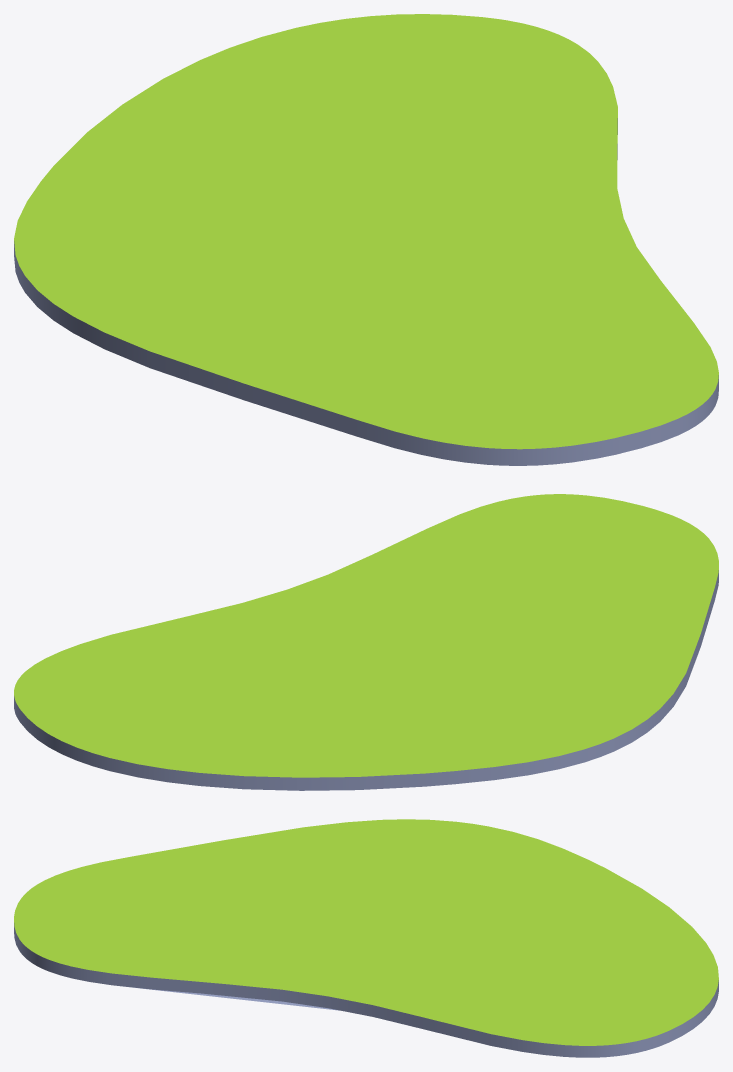
File: Lastholes30.fbx
The picture shows the model from 3 angles, top to bottom: view 1: azimuth 30°, elevation 25°; view 2: azimuth 150°, elevation 25°; view 3: azimuth 270°, elevation 25°; orthographic projection. The views are drawn at different scales.
Visible parts, largest first — view 1: mainRes_2; view 2: mainRes_2; view 3: mainRes_2.
Part boxes in pixels (box(x1,y1,x2,y2)): mainRes_2: box(14, 14, 718, 465); mainRes_2: box(14, 494, 718, 790); mainRes_2: box(14, 819, 718, 1057).
Bounding box in the file's own units: 1233 × 30 × 1621.
